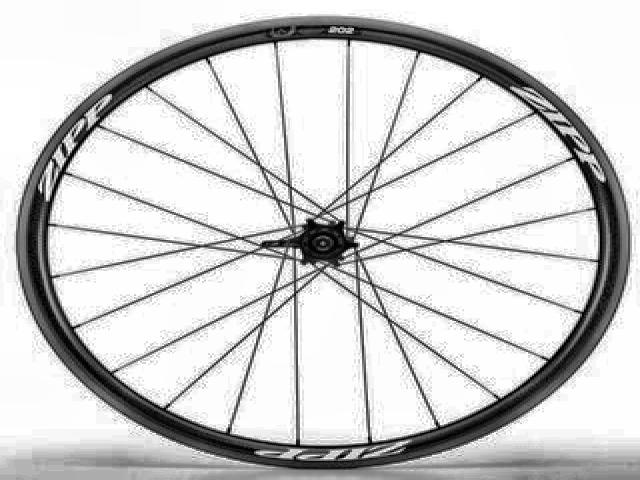wheel: (14, 13, 633, 467)
